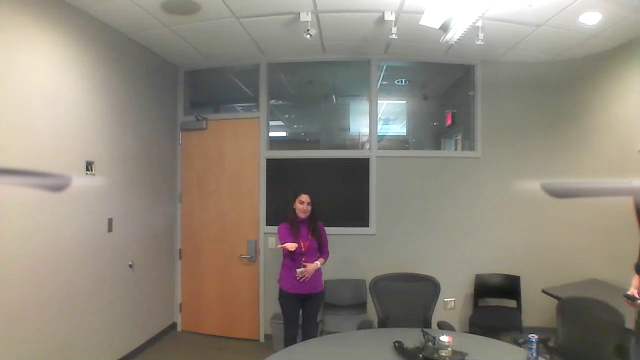land: (271, 238, 306, 259)
